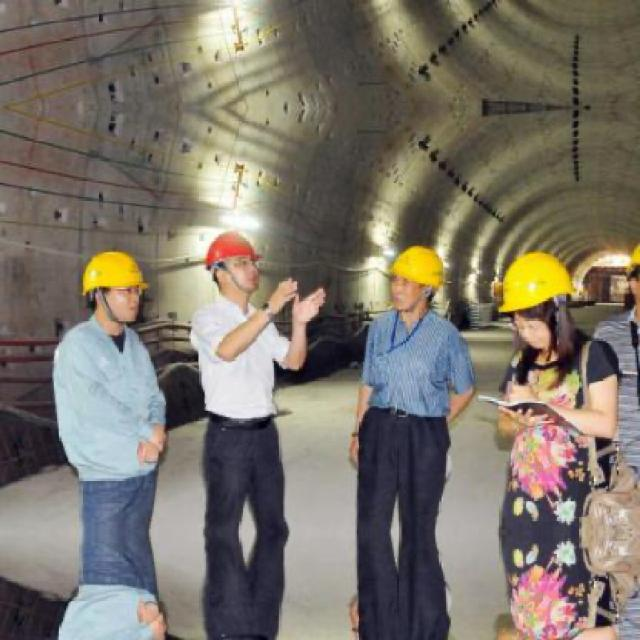con casco: (78, 228, 174, 344), (499, 243, 591, 361), (208, 195, 286, 319), (368, 236, 449, 340)
